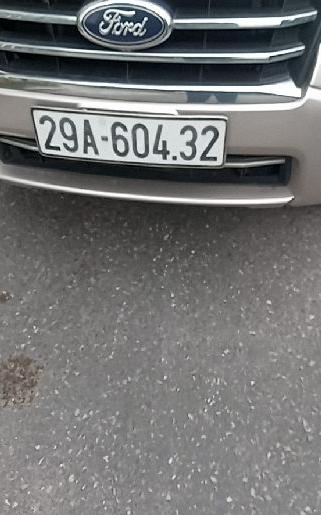Plate-iWeP: (31, 108, 229, 169)
